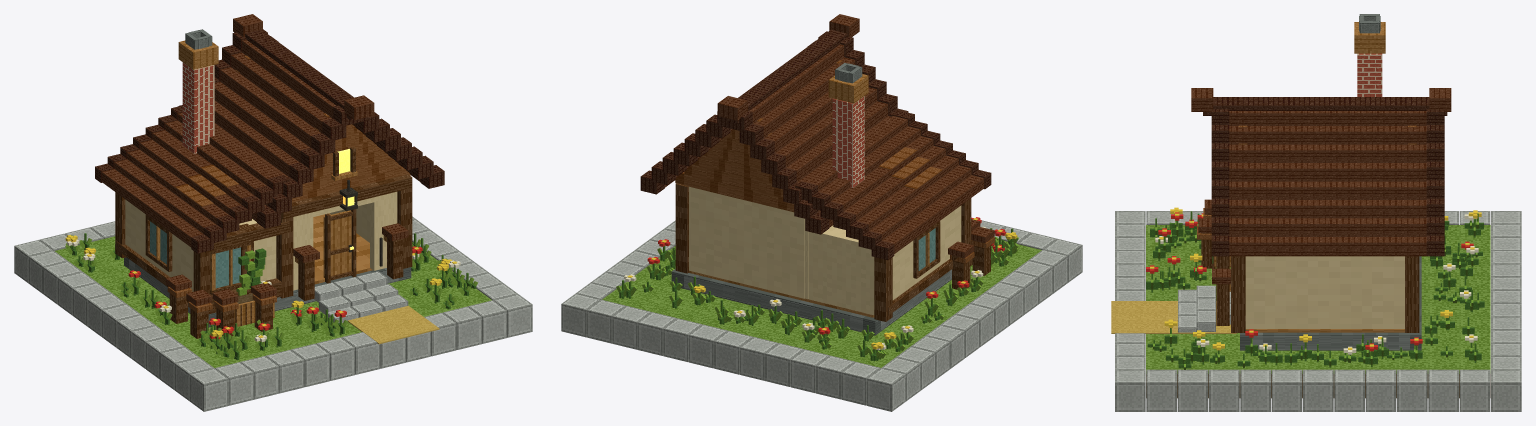
File: wooden_garden_house_low_poly.glb
3 renders of one model, left to right at view 1: azimuth 30°, elevation 25°; view 2: azimuth 150°, elevation 25°; view 3: azimuth 270°, elevation 25°, orthographic. The views are drawn at different scales.
Parts seen in each view (by area): view 1: Borde_piedra, Techo_lateral, Techo_principal, Cesped, Estructura_madera, Remates_techo, Paredes, Hierbas, Chimenea, Valla, Ventanas, Frontones (+11 smaller); view 2: Borde_piedra, Paredes, Techo_lateral, Cesped, Techo_principal, Remates_techo, Hierbas, Frontones, Cimientos, Chimenea, Estructura_madera, Cumbrera (+5 smaller); view 3: Techo_principal, Borde_piedra, Cesped, Paredes, Hierbas, Remates_techo, Cumbrera, Cimientos, Flores, Camino, Chimenea, Estructura_madera (+4 smaller).
Part boxes in pixels (x1,y1,x2,y2): Borde_piedra: (14,216,532,411); Techo_lateral: (95,105,289,253); Techo_principal: (214,39,420,221); Cesped: (55,236,491,367); Estructura_madera: (115,174,412,314); Remates_techo: (178,29,444,228); Paredes: (125,191,397,291); Hierbas: (65,233,477,360); Chimenea: (178,29,218,153); Valla: (166,274,276,338); Ventanas: (145,147,357,294); Frontones: (235,55,410,202); Borde_piedra: (561,220,1082,411); Paredes: (689,186,961,315); Techo_lateral: (795,110,991,260); Cesped: (602,239,1041,367); Techo_principal: (665,44,890,227); Remates_techo: (640,31,908,234); Hierbas: (616,228,1018,361); Frontones: (675,60,842,212); Cimientos: (671,269,951,335); Chimenea: (828,63,868,187); Estructura_madera: (675,183,971,321); Cumbrera: (717,14,859,123); Techo_principal: (1229,111,1426,256); Borde_piedra: (1115,211,1521,411); Cesped: (1146,225,1490,373); Paredes: (1245,256,1404,328); Hierbas: (1146,211,1484,369); Remates_techo: (1211,109,1444,256); Cumbrera: (1191,88,1451,115); Cimientos: (1240,256,1421,350); Flores: (1146,207,1481,354); Camino: (1111,301,1236,333); Chimenea: (1354,14,1385,96); Estructura_madera: (1231,256,1419,332).
Bounding box in the file's own units: 12.98 × 9.9 × 13.09.
Materials: 22 (22 with a texture image).
